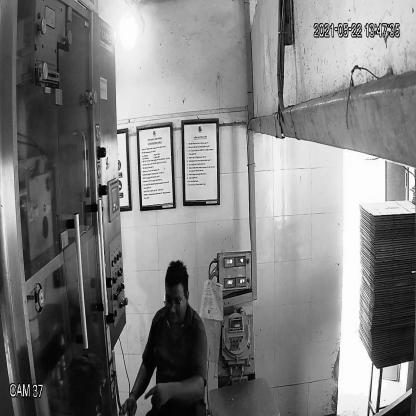goggles: (161, 292, 188, 314)
